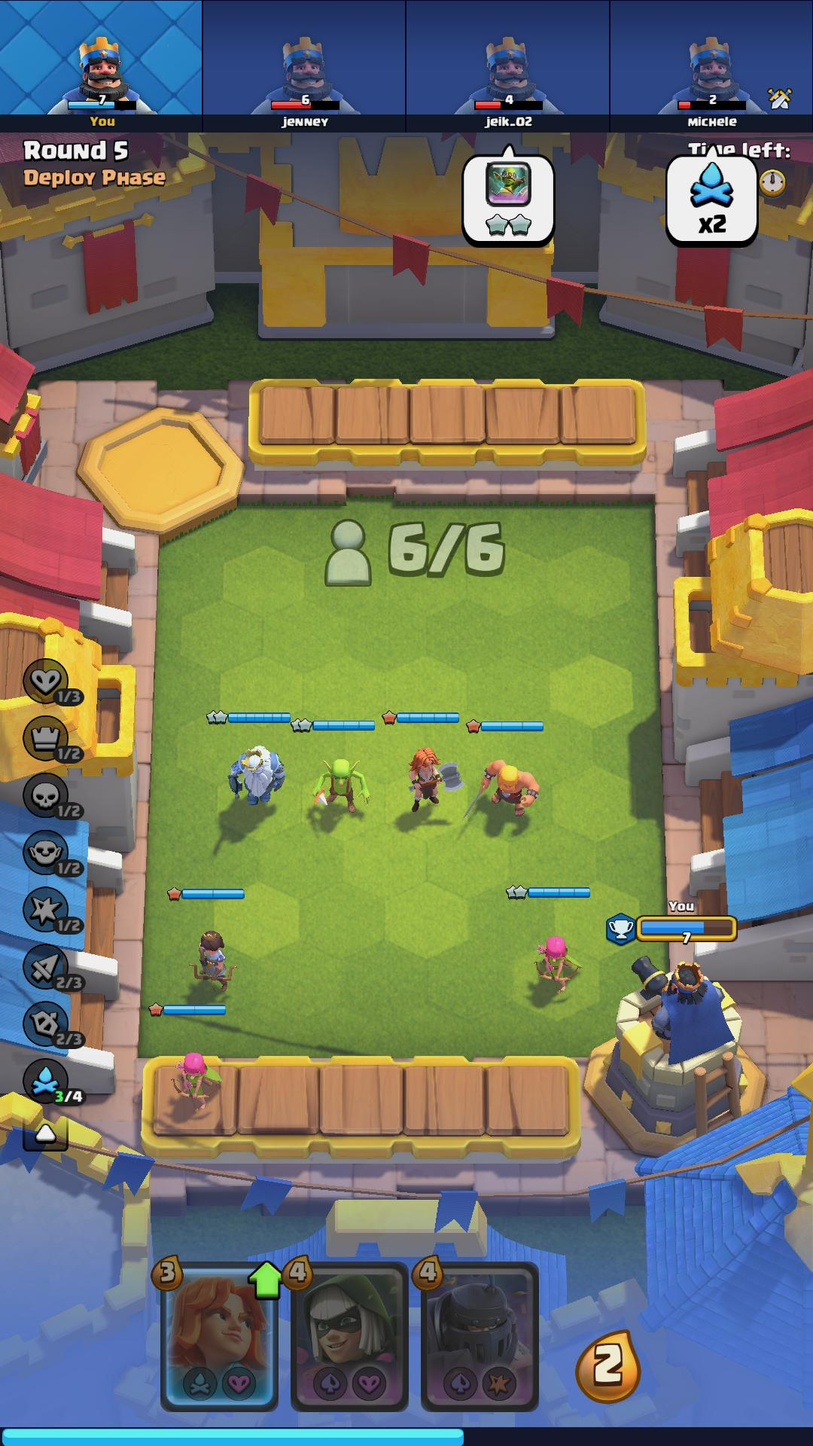archer: (518, 929, 592, 997), (163, 1031, 222, 1115)
barbarian: (478, 749, 545, 827)
ghost: (222, 741, 289, 813)
goblin: (315, 747, 381, 821)
hand-bandit: (297, 1263, 408, 1411)
hand-mega: (423, 1263, 537, 1410)
hand-valkyrie: (159, 1264, 277, 1408)
princess: (187, 919, 258, 988)
upgrade: (241, 1258, 285, 1302)
valkyrie: (404, 742, 468, 820)
